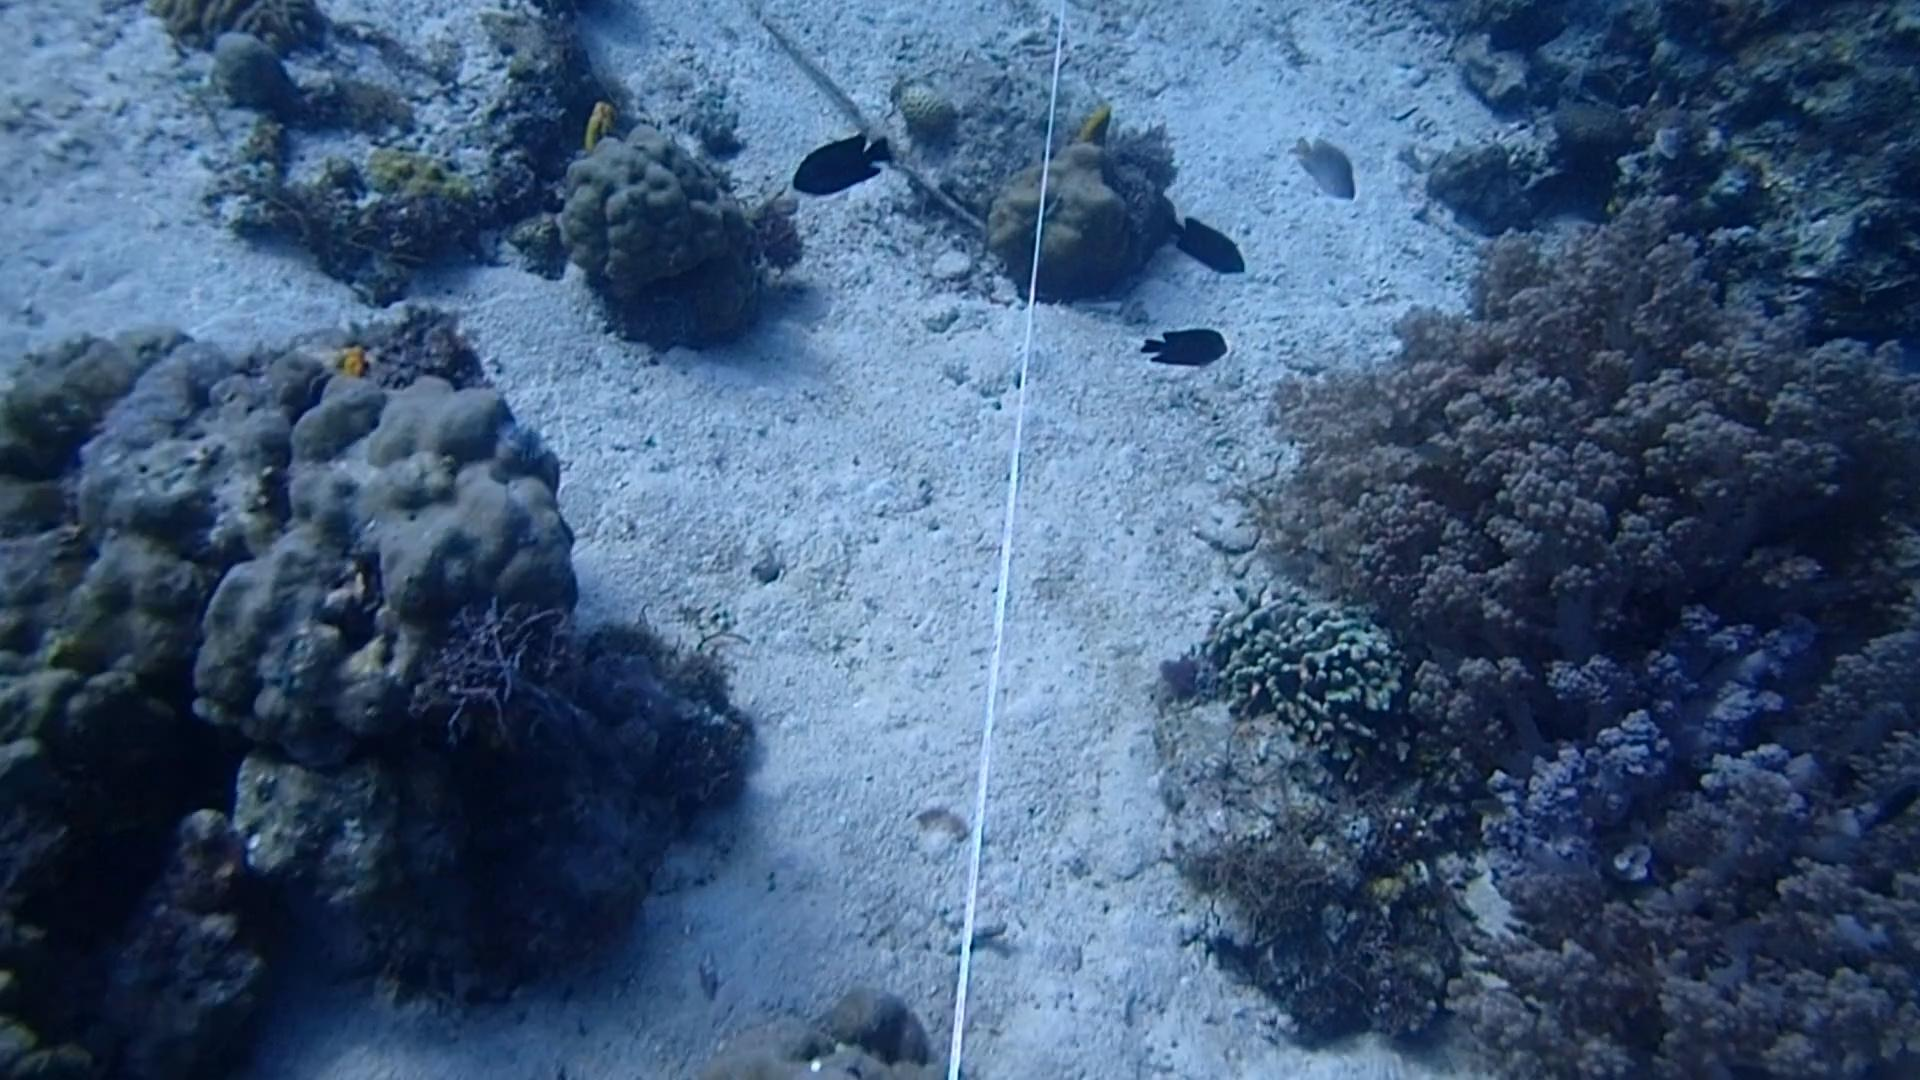Dark Fish: (777, 125, 902, 203), (1156, 204, 1253, 289), (1135, 326, 1236, 381), (1858, 765, 1920, 836)
Light Fish: (1288, 128, 1362, 206)
